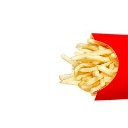frenchfries: (61, 36, 116, 88)
